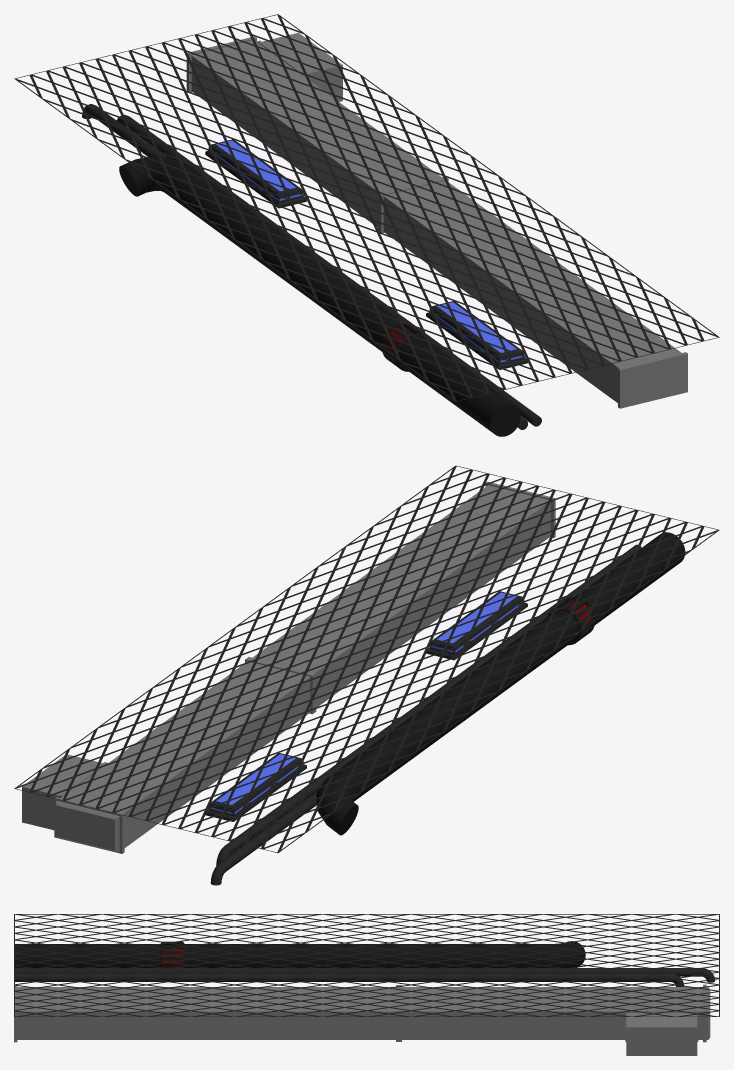
File: Floor_Grate+Pipes_End.fbx
The picture shows the model from 3 angles, top to bottom: view 1: azimuth 30°, elevation 25°; view 2: azimuth 150°, elevation 25°; view 3: azimuth 270°, elevation 25°; orthographic projection. The views are drawn at different scales.
Parts seen in each view (by area): view 1: hallway pipes; view 2: hallway pipes; view 3: hallway pipes.
Part boxes in pixels (box(x1,y1,x2,y2)): hallway pipes: box(14, 14, 719, 436); hallway pipes: box(14, 465, 719, 885); hallway pipes: box(14, 914, 719, 1055).
Size of the model in its own units: 141 by 27.66 by 400.
